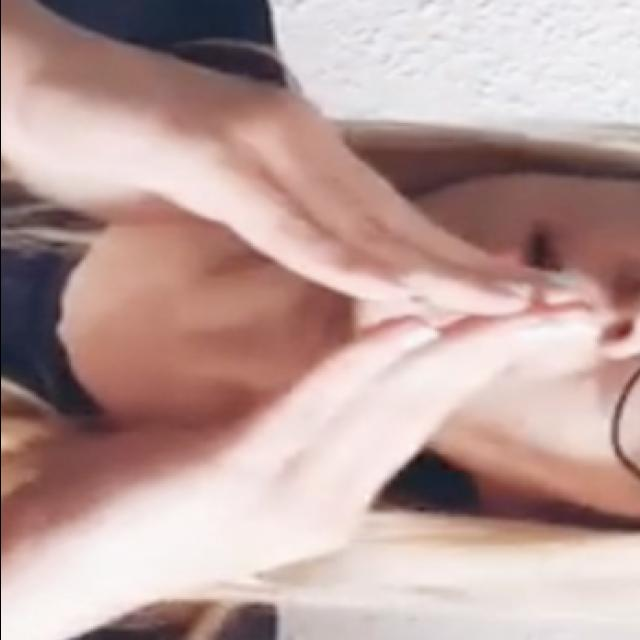casa: (10, 15, 592, 628)
